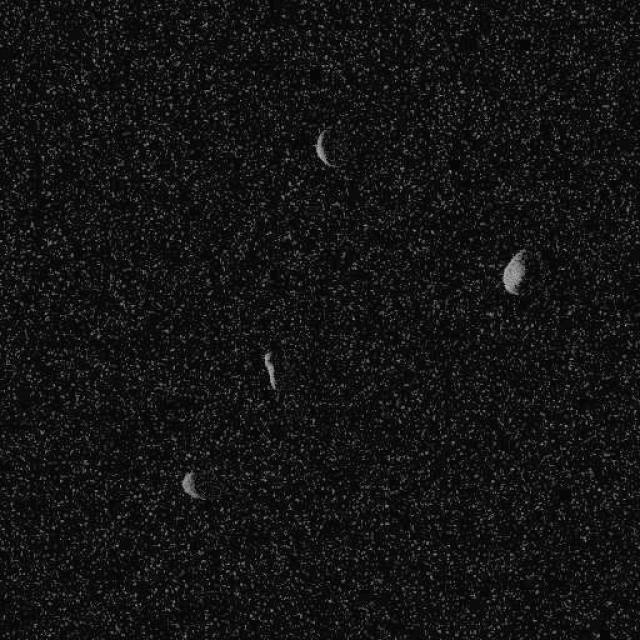D2: (501, 247, 530, 295), (314, 126, 336, 169), (180, 470, 205, 501), (261, 349, 279, 391)
